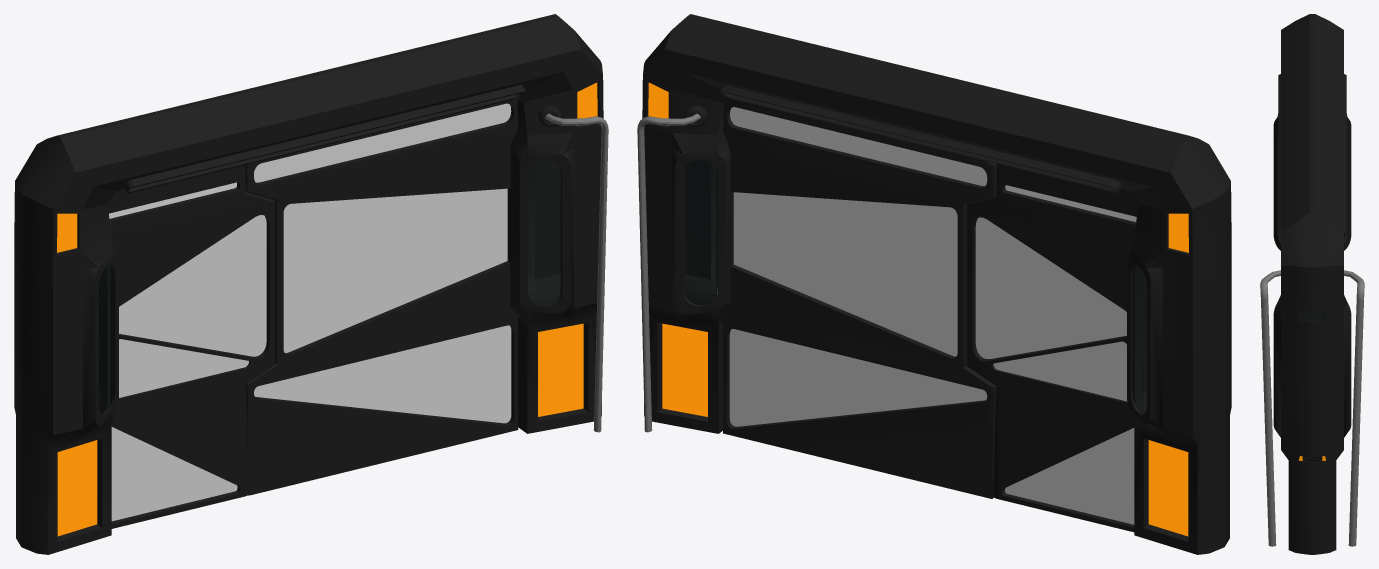
File: BC Doors testw.fbx
The picture shows the model from 3 angles, left to right: view 1: azimuth 30°, elevation 25°; view 2: azimuth 150°, elevation 25°; view 3: azimuth 270°, elevation 25°; orthographic projection. The views are drawn at different scales.
Visible parts, largest first — view 1: door frame, Rdoor, ldoor; view 2: door frame, Rdoor, ldoor; view 3: door frame, Rdoor.
Part boxes in pixels (x1,y1,x2,y2): door frame: [14, 14, 608, 554]; Rdoor: [245, 98, 518, 495]; ldoor: [99, 165, 275, 528]; door frame: [637, 14, 1231, 554]; Rdoor: [716, 97, 996, 498]; ldoor: [967, 164, 1145, 532]; door frame: [1260, 14, 1364, 554]; Rdoor: [1310, 313, 1321, 461].
Size of the model in its own units: 3.94 by 2.65 by 0.7617.
